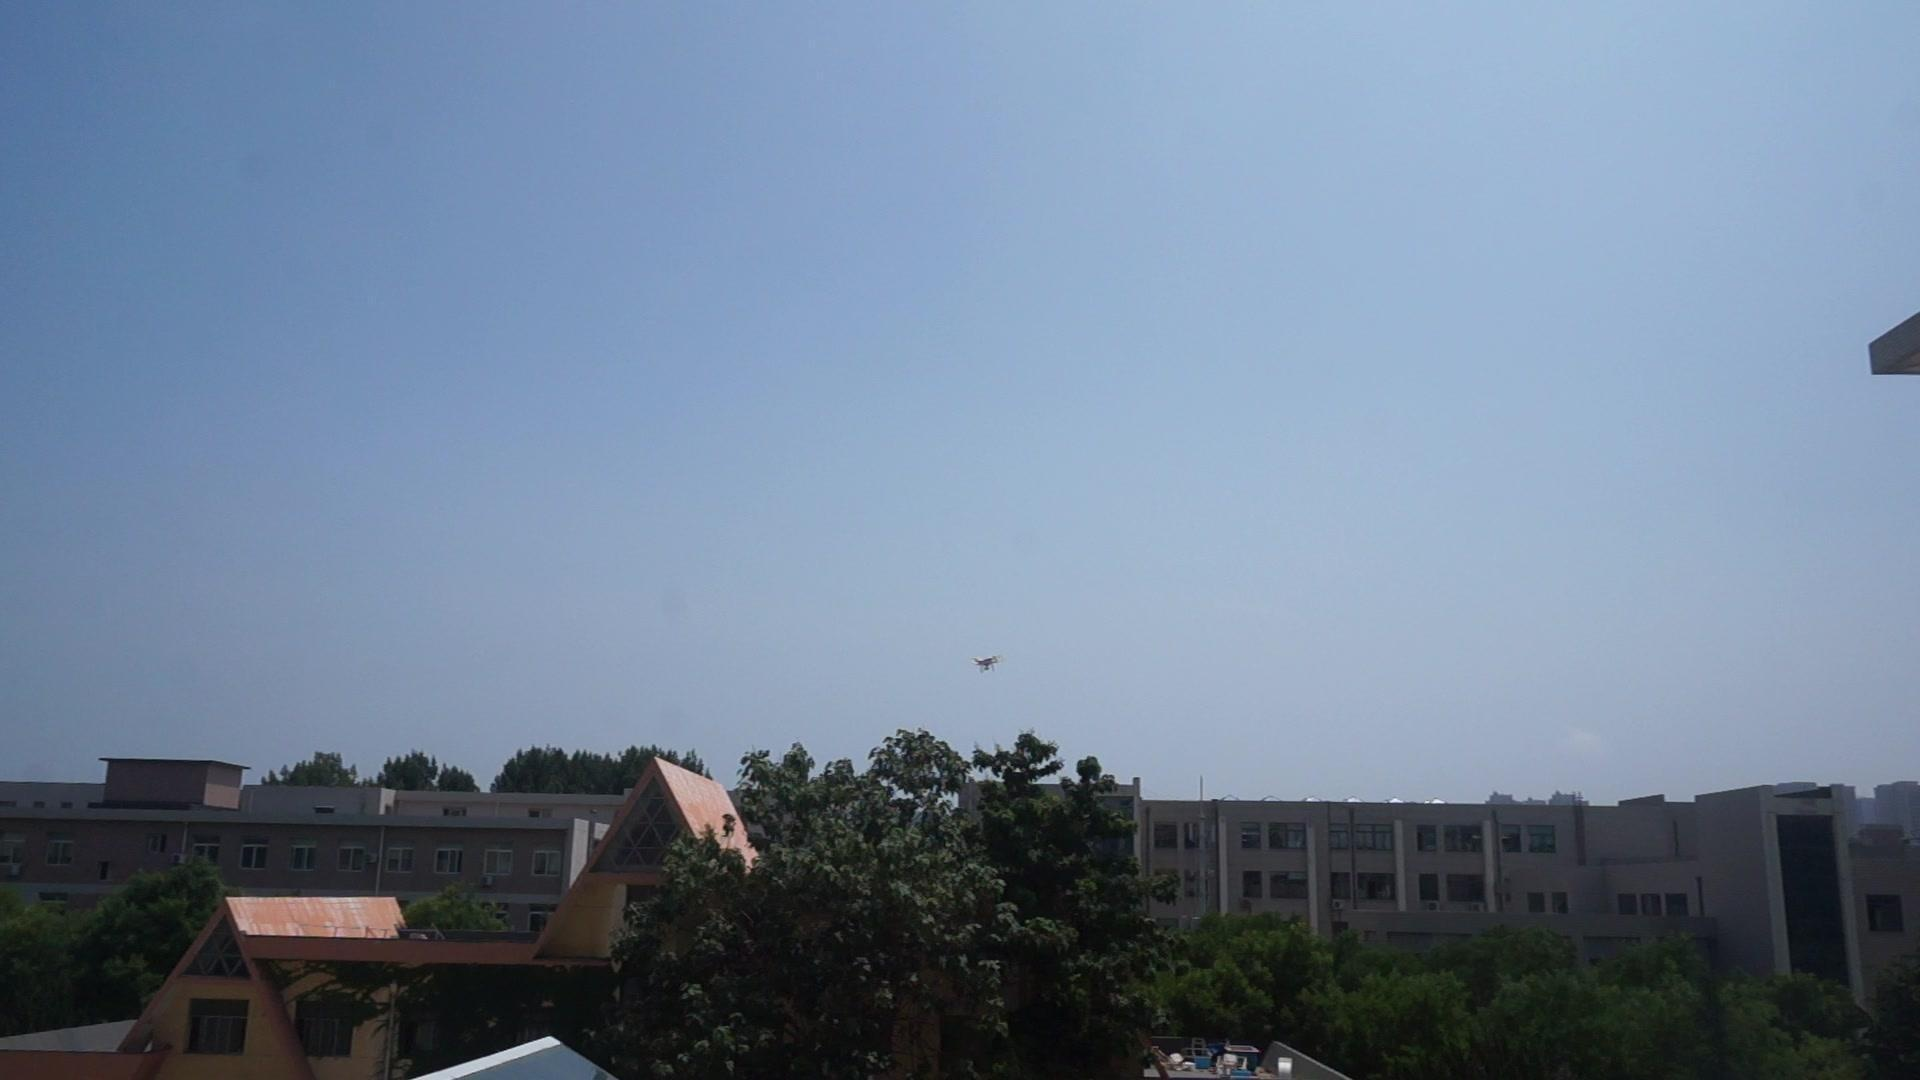UAV: (971, 655, 1006, 675)
